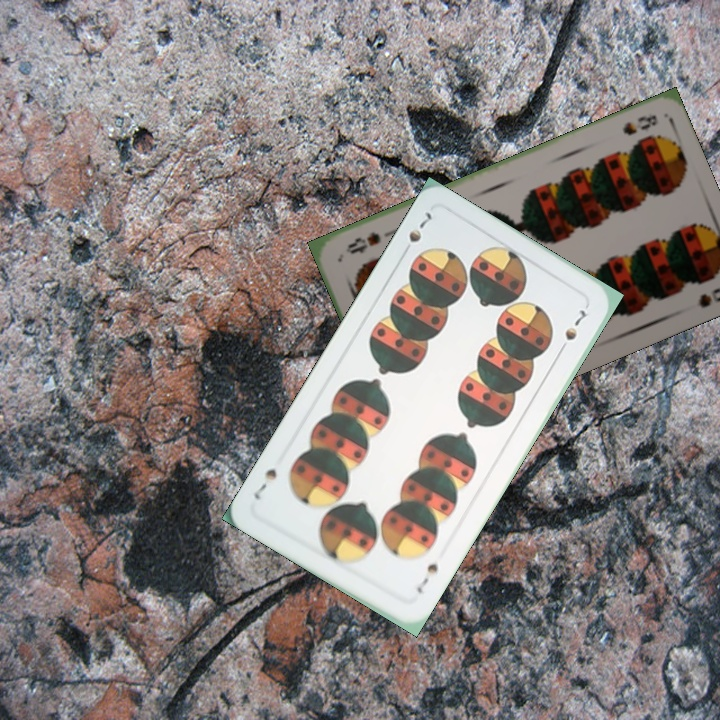S7: (397, 207, 434, 259), (412, 559, 441, 597)
S8: (618, 110, 660, 138)
